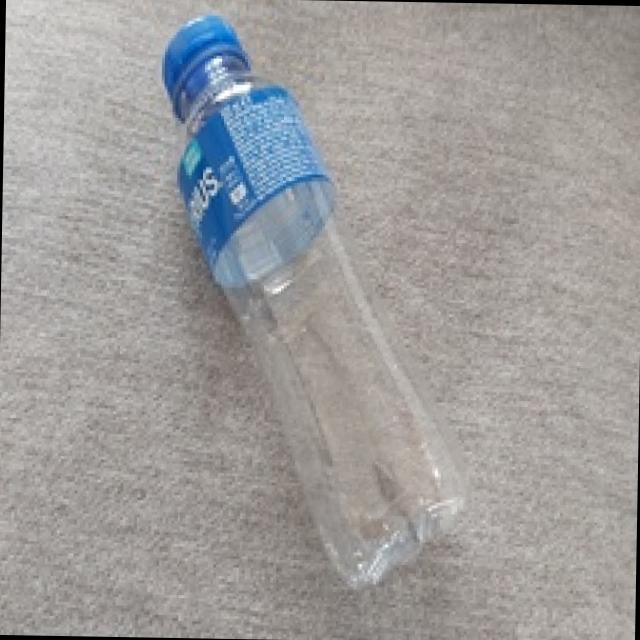good: (128, 21, 518, 616)
